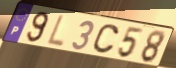3: (71, 19, 96, 51)
5: (117, 25, 145, 59)
8: (140, 29, 166, 65)
9: (25, 11, 51, 44)
C: (90, 23, 121, 55)
L: (44, 14, 66, 49)
